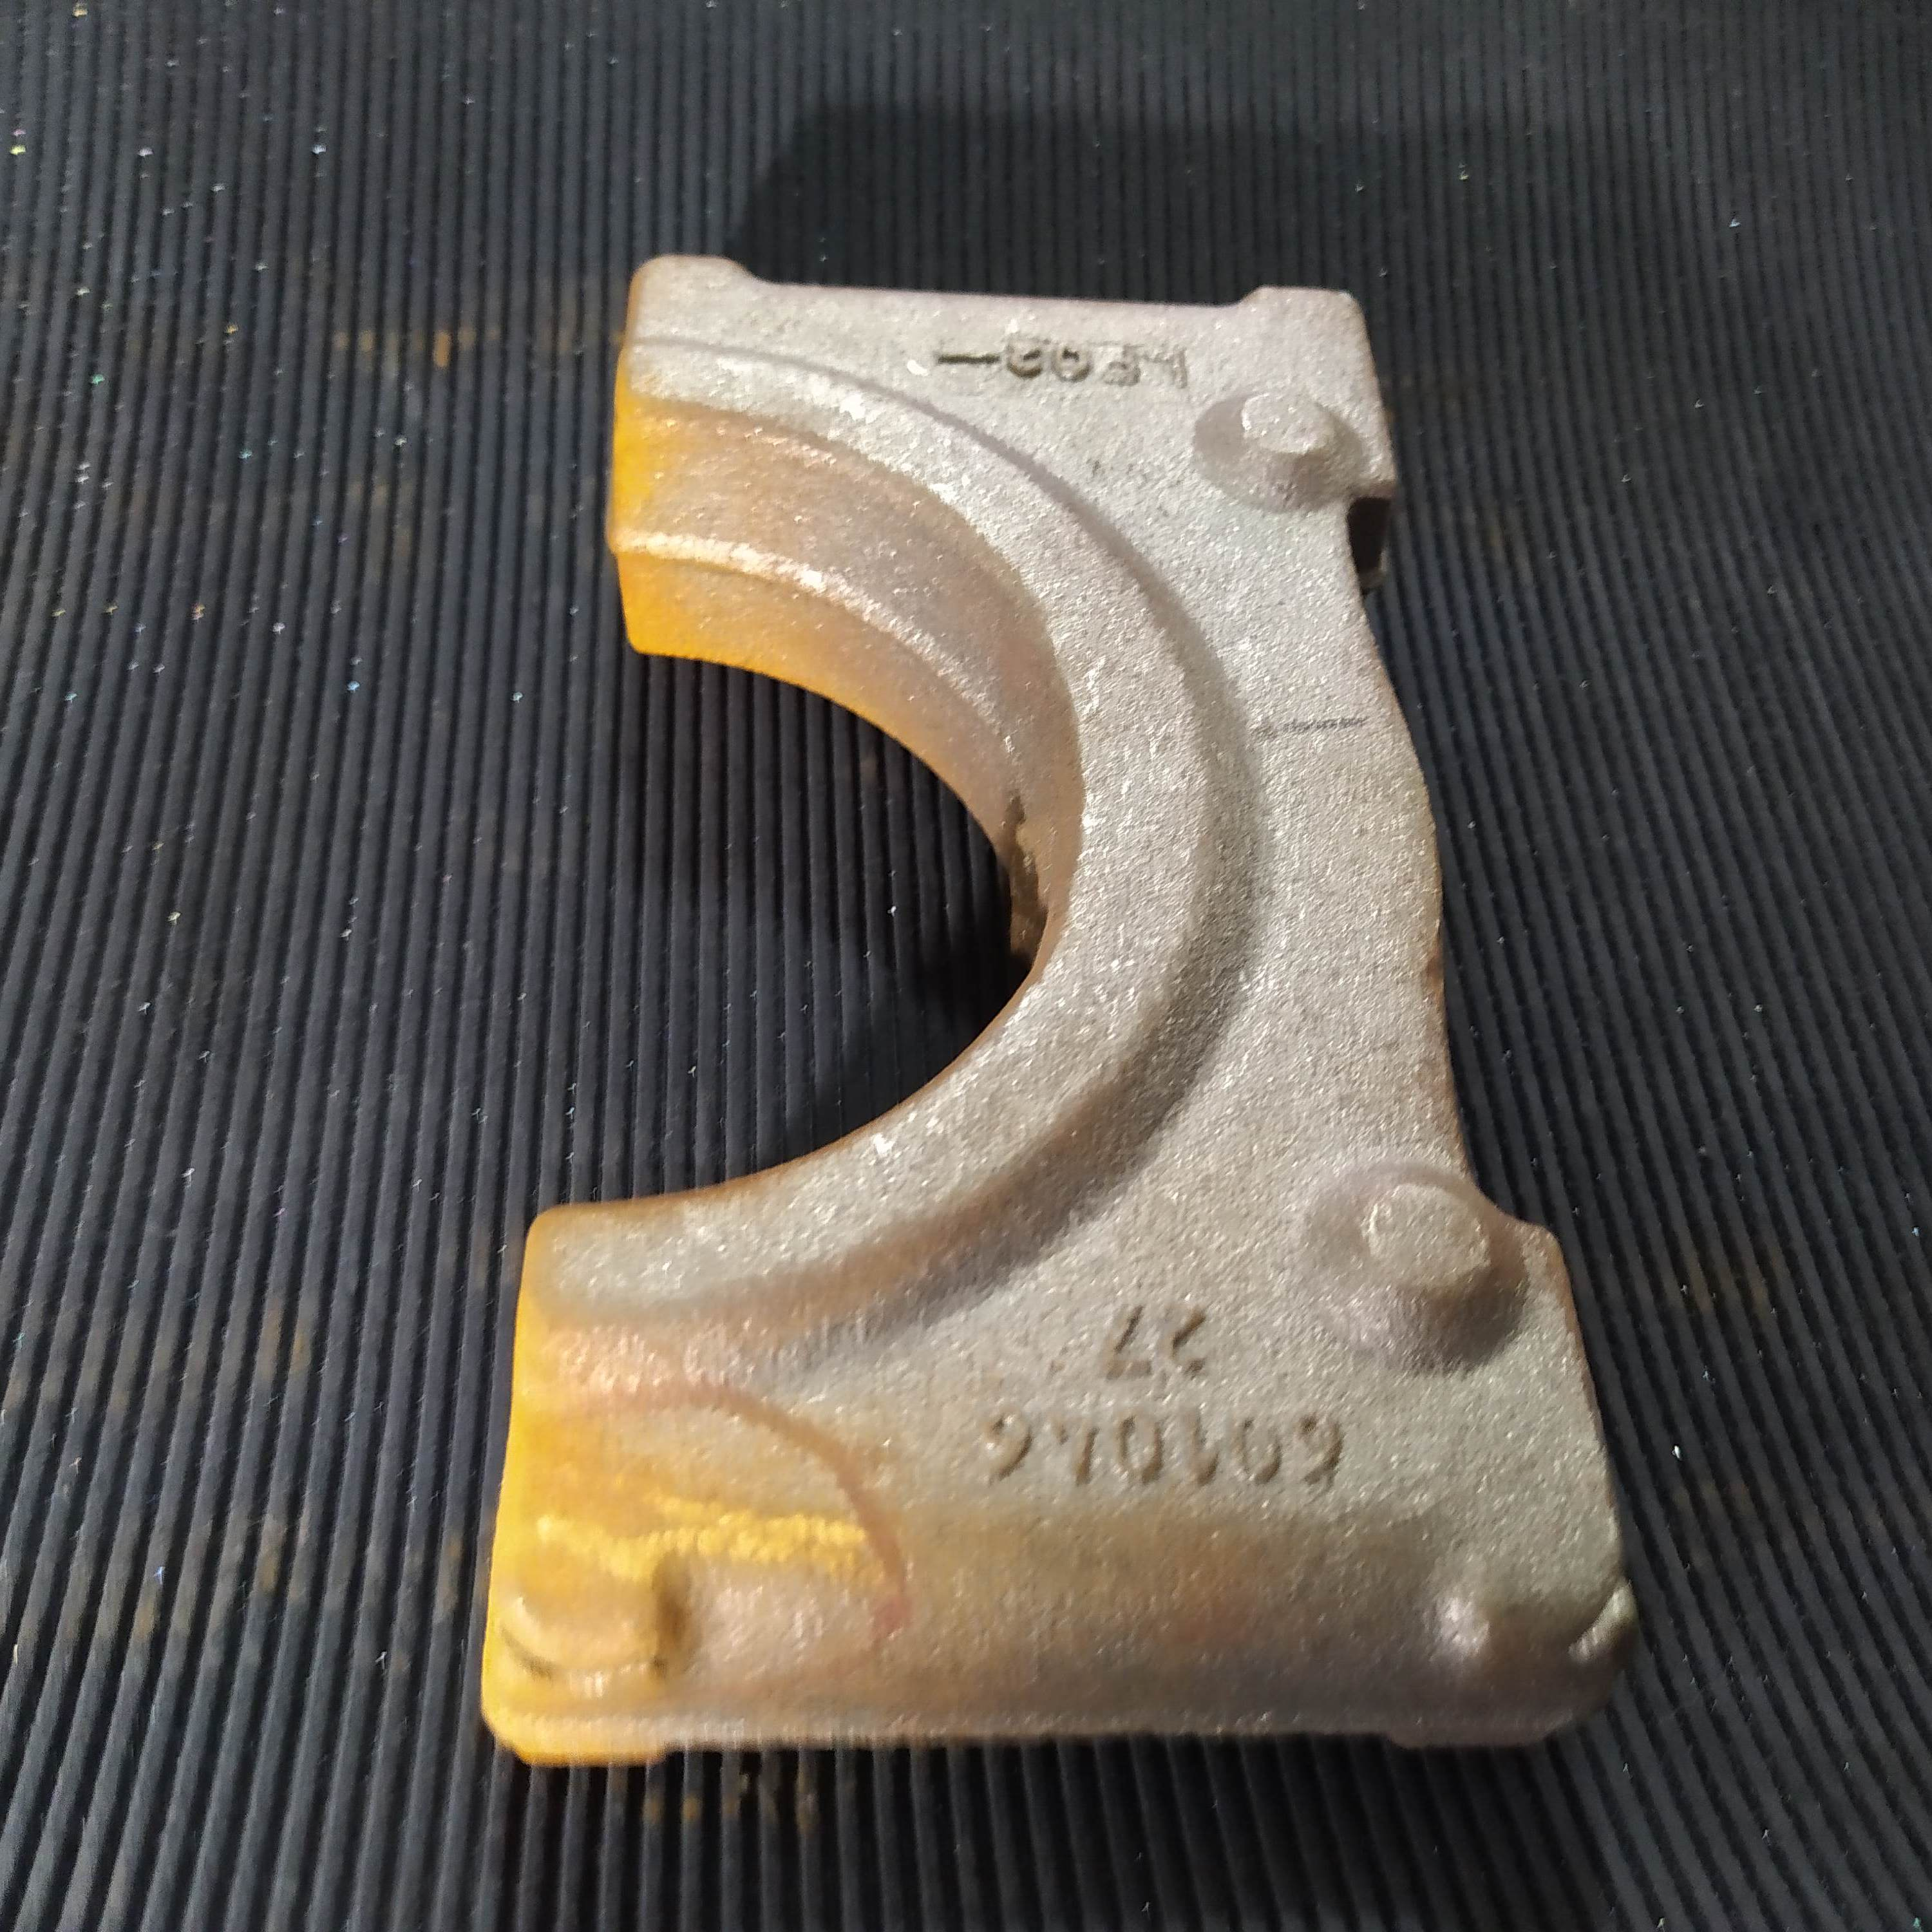rechupe: (495, 1615, 667, 1695), (1555, 1557, 1629, 1667)
